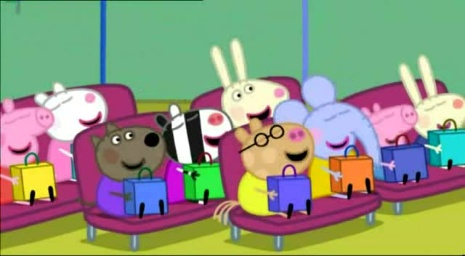Peppa: (1, 97, 55, 206)
